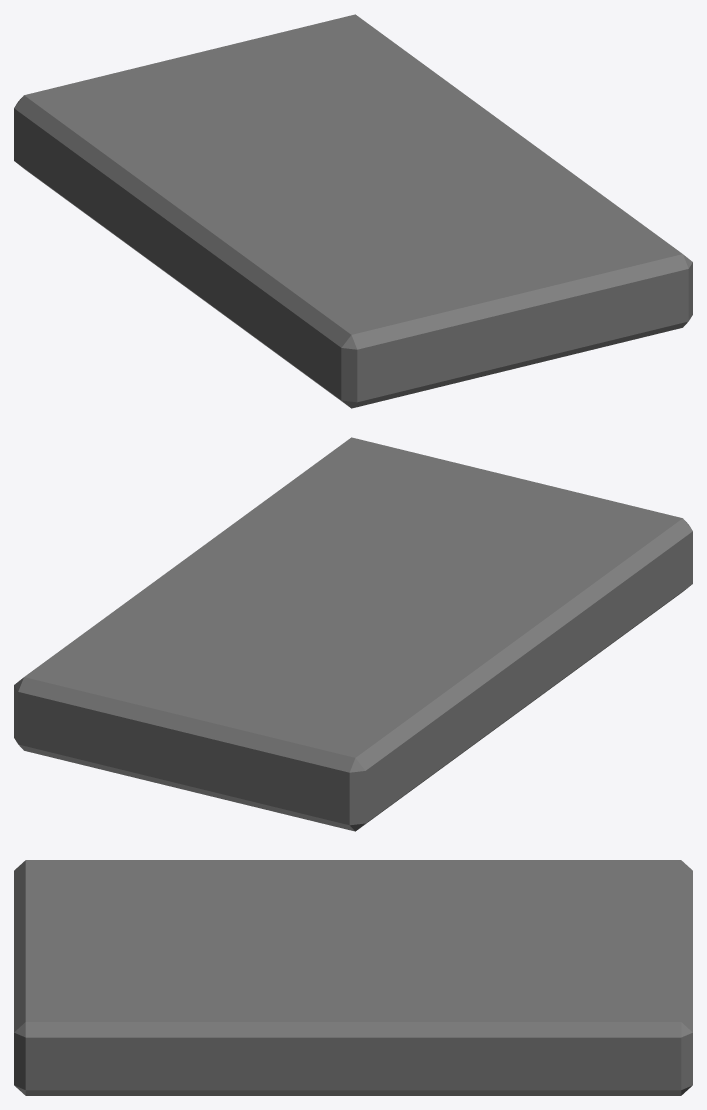
File: Tile_04.fbx
3 views of the same model, one above another, from view 1: azimuth 30°, elevation 25°; view 2: azimuth 150°, elevation 25°; view 3: azimuth 270°, elevation 25° (orthographic).
Parts seen in each view (by area): view 1: Tile_04; view 2: Tile_04; view 3: Tile_04.
Part boxes in pixels (<box>): Tile_04: <box>14,14,692,408</box>; Tile_04: <box>14,437,692,831</box>; Tile_04: <box>14,860,692,1095</box>.
Size of the model in its own units: 0.9064 by 0.1816 by 1.51.
